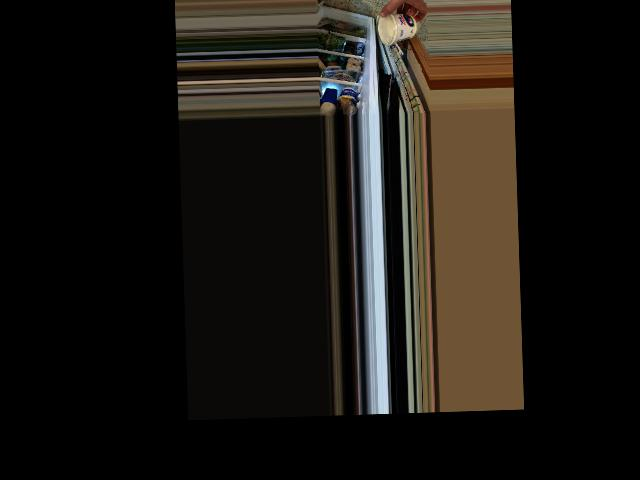cotage: (377, 10, 416, 42)
